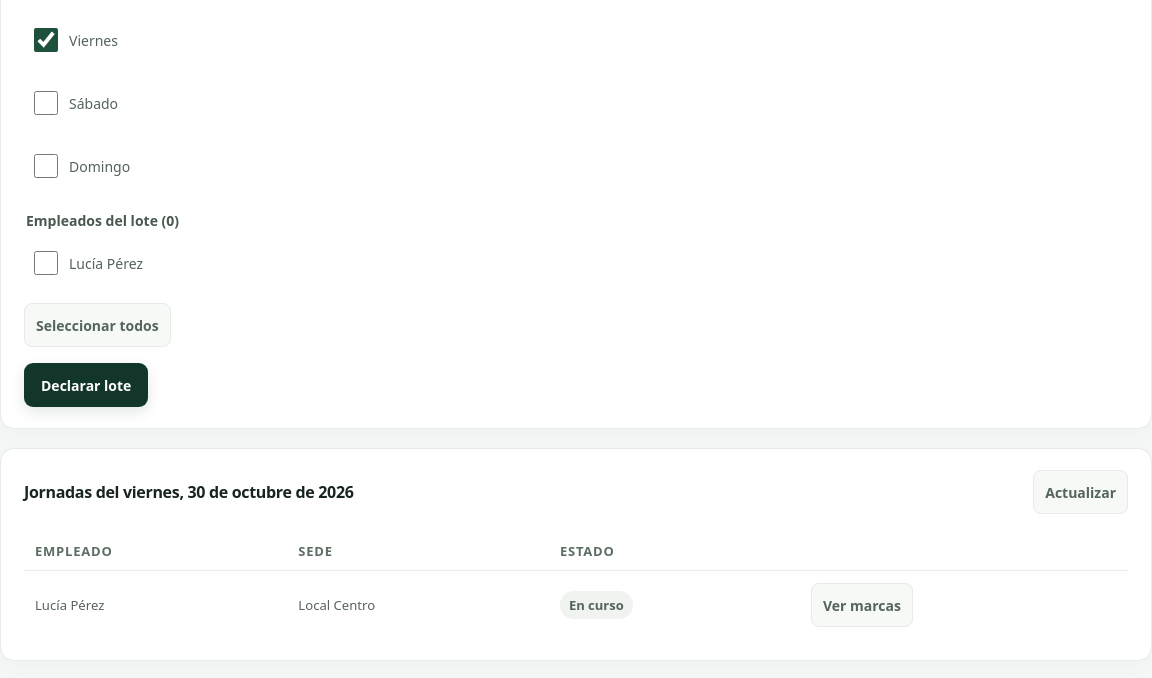
Test: historial de cambios de una jornada (issue #60) › recarga el historial abierto después de anular una marca y lo pliega al abrir otra vez la jornada
The width and height of the screenshot is (1152, 678).
(page scrolled)
Click the button "Ver marcas" at (862,605), box [811,583,913,627]
(page scrolled)
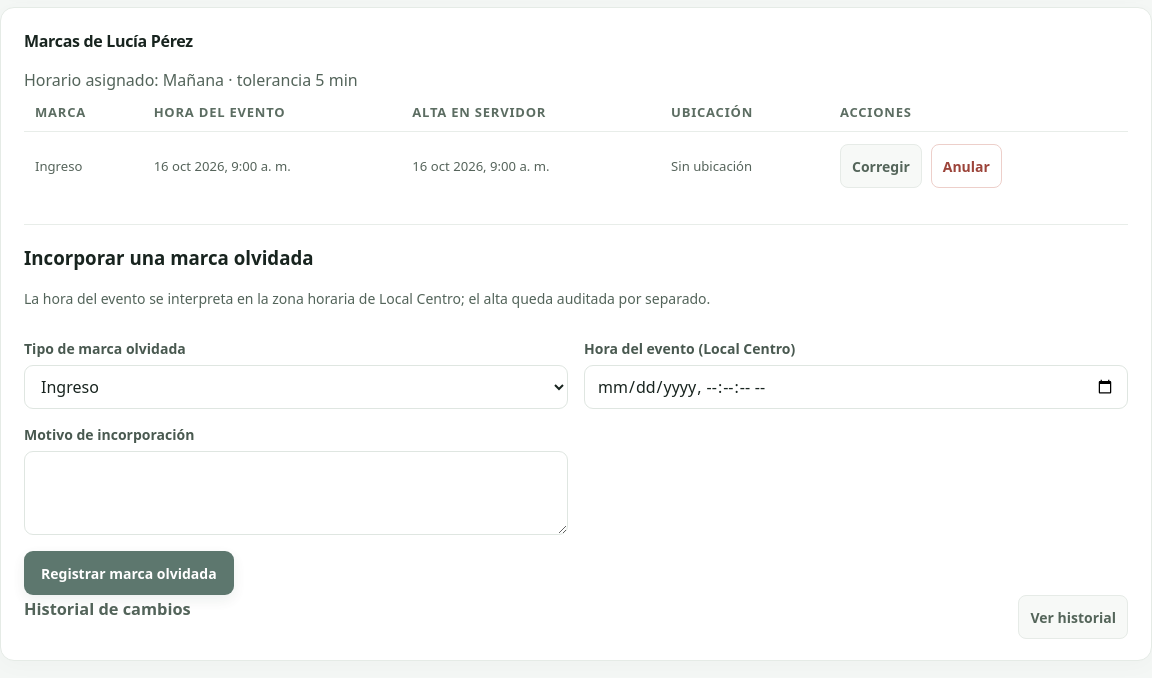
Click the button "Ver historial" at (1073,617), box [1018,595,1128,639]
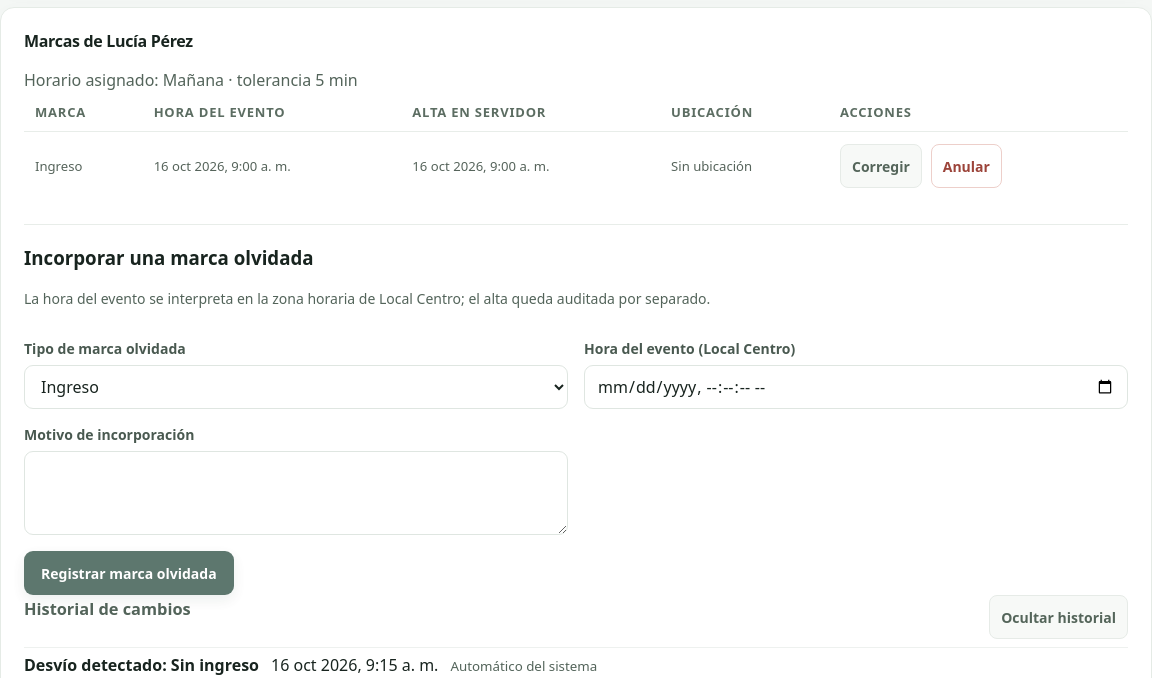
Click the button with aria-label "Anular marca Ingreso de" at (966,166), box [931,144,1002,188]
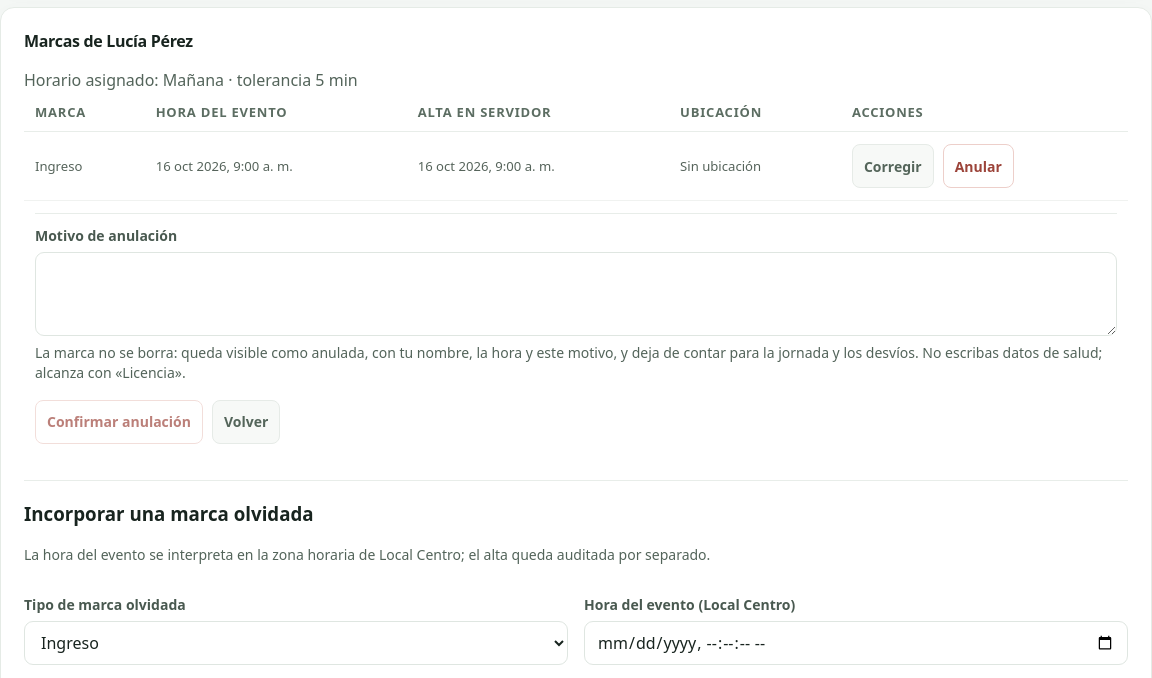
Type "Tocó por error." into the text box labelled "Motivo de anulación" at (576,294), box [35,252,1117,336]
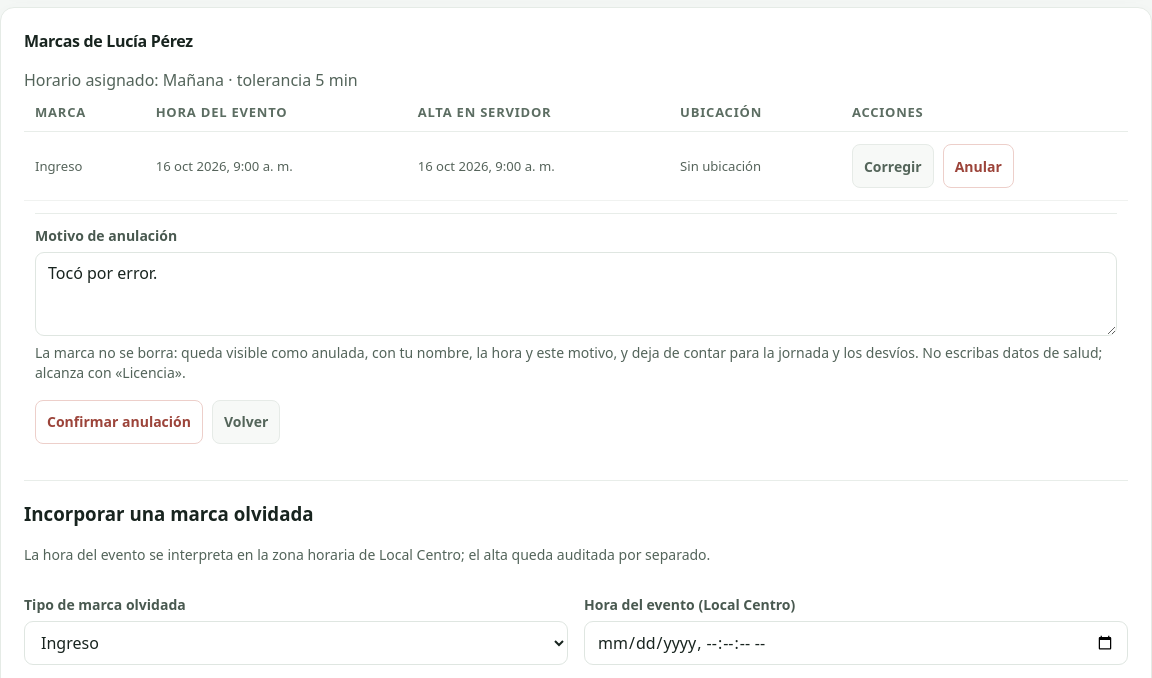
Click the button "Confirmar anulación" at (119,422), box [35,400,203,444]
(page scrolled)
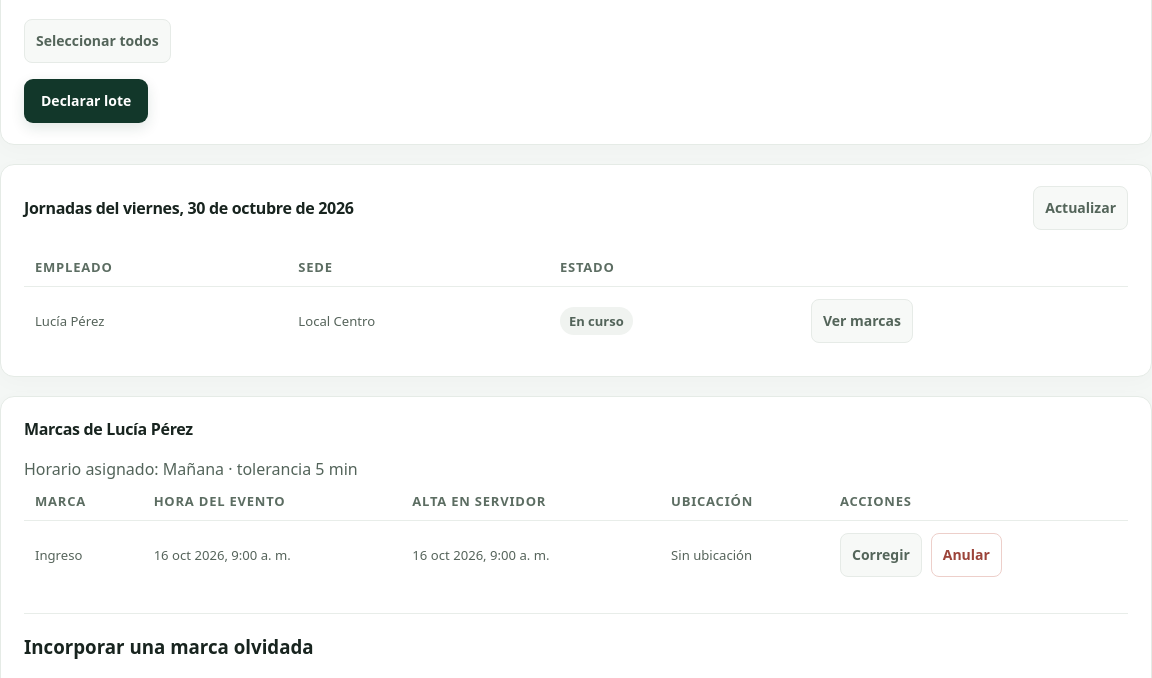
Click the button "Ver marcas" at (862,321), box [811,299,913,343]
(page scrolled)
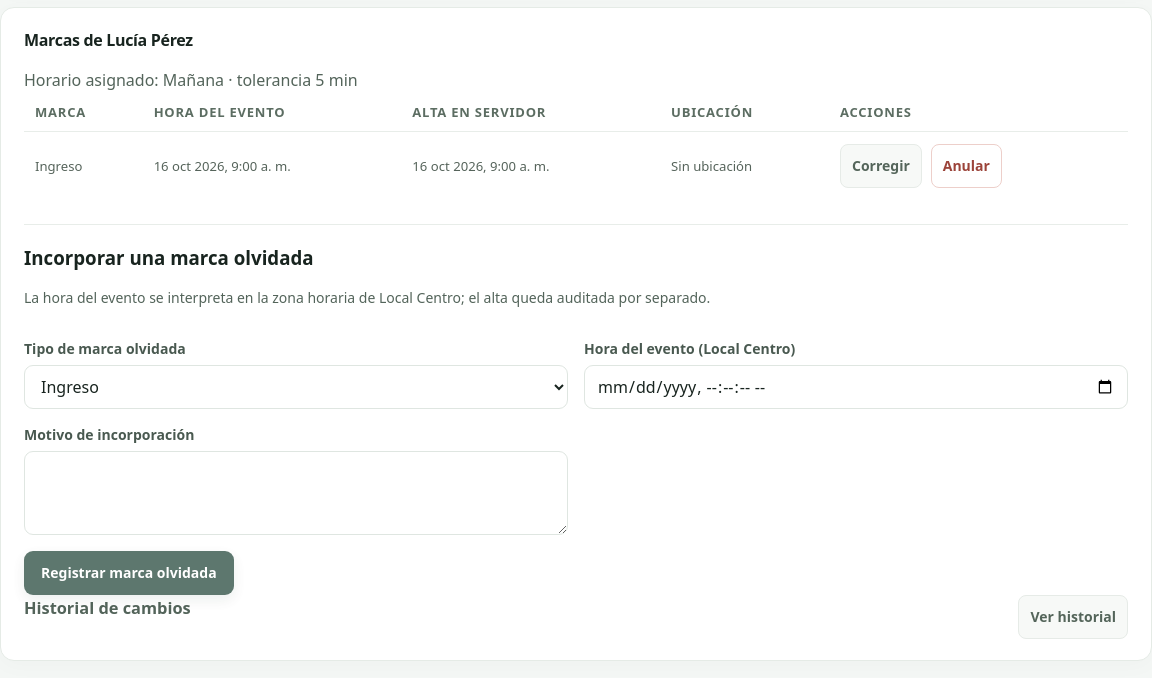
Expected: the button "Ver historial" is collapsed, [1018,595,1128,639]
